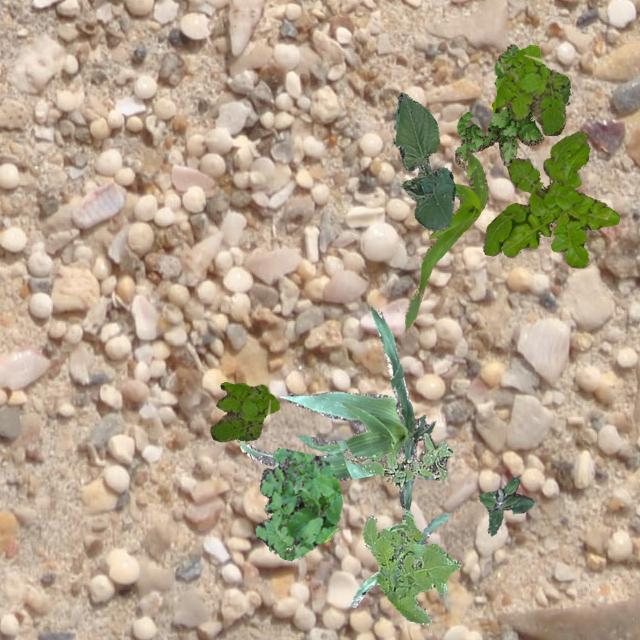crop: (240, 306, 433, 510), (404, 148, 486, 328), (351, 512, 448, 606), (392, 92, 454, 230)
weed: (482, 130, 618, 266), (453, 44, 542, 172), (362, 508, 459, 624), (255, 446, 342, 560), (490, 44, 570, 134), (342, 432, 452, 487), (210, 380, 278, 440), (478, 476, 532, 534)
